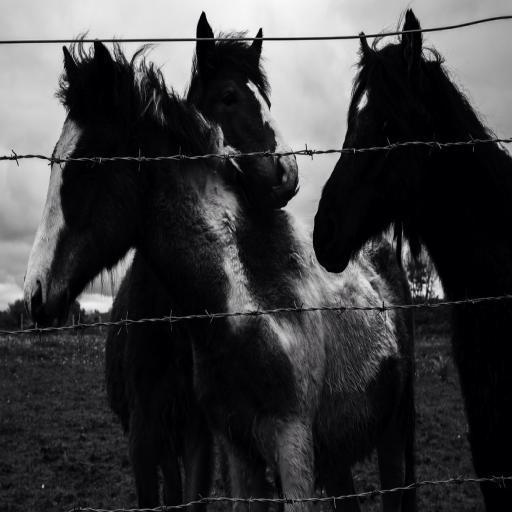horse: (23, 28, 414, 512), (312, 4, 511, 512), (104, 10, 300, 511)
